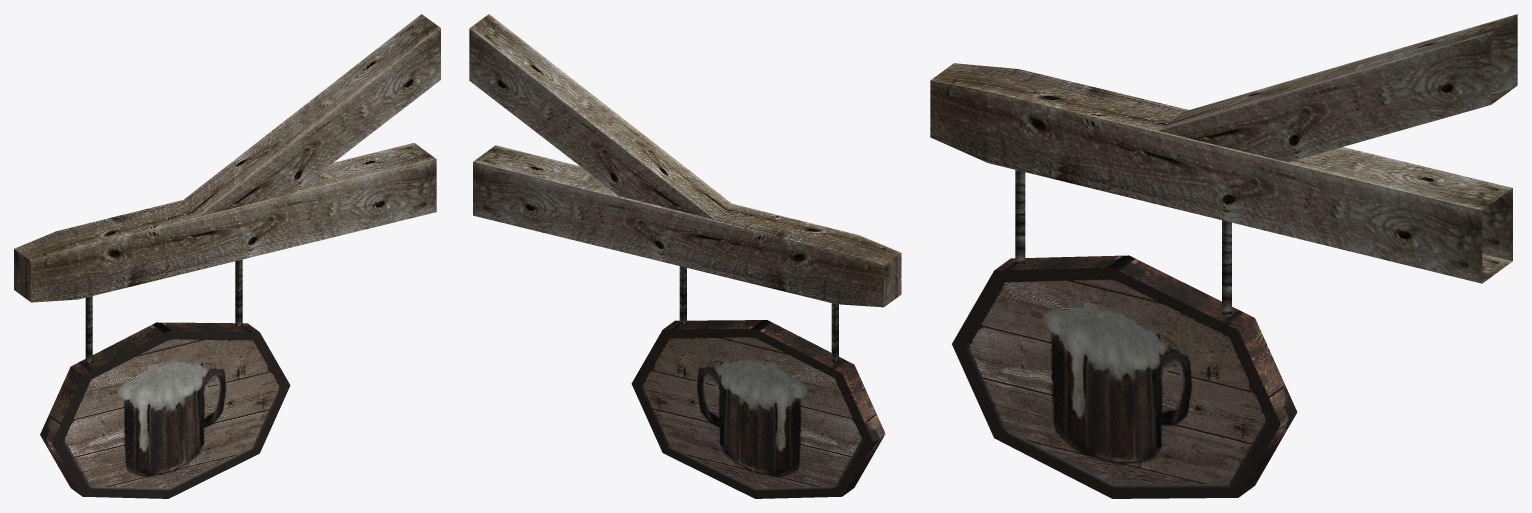
The model's file is sign2.fbx.
3 views of the same model, side by side, from view 1: azimuth 30°, elevation 25°; view 2: azimuth 150°, elevation 25°; view 3: azimuth 330°, elevation 25° (orthographic). The views are drawn at different scales.
Visible parts, largest first — view 1: U3DMesh; view 2: U3DMesh; view 3: U3DMesh.
Boxes of the visible parts, left/top/right/bottom form: U3DMesh: left=14, top=14, right=440, bottom=498; U3DMesh: left=469, top=14, right=901, bottom=498; U3DMesh: left=930, top=14, right=1517, bottom=498.
Bounding box in the file's own units: 204 × 193 × 19.29.
